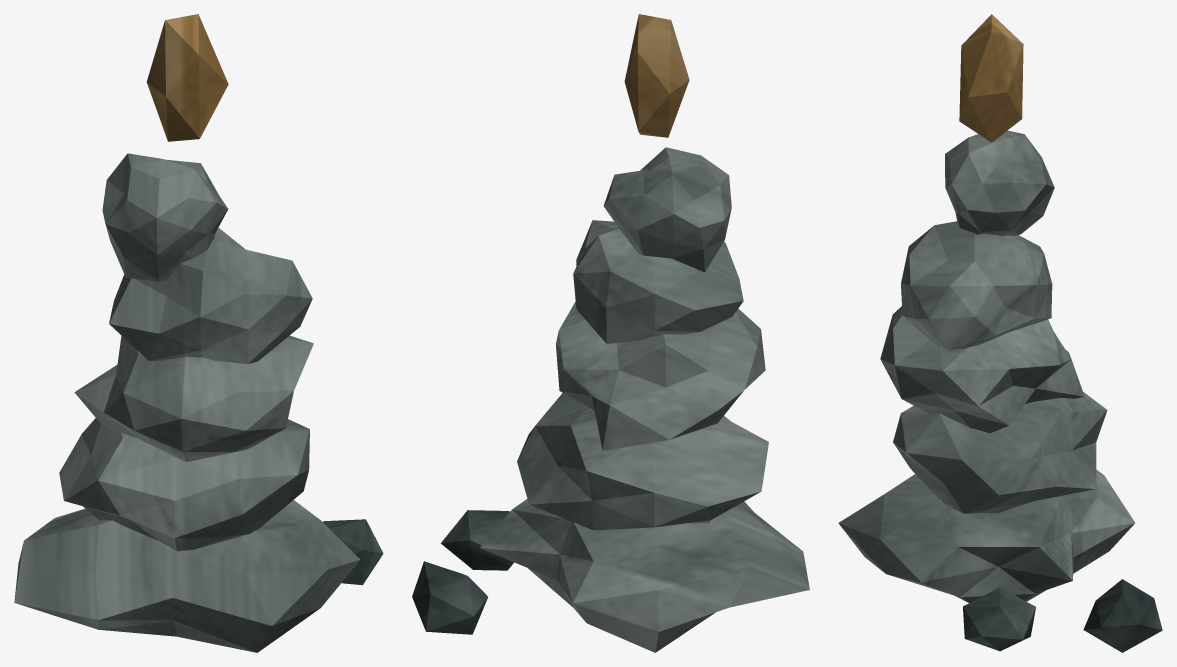
The model's file is 0609_cairn_09.glb.
3 views of the same model, side by side, from view 1: azimuth 30°, elevation 25°; view 2: azimuth 150°, elevation 25°; view 3: azimuth 270°, elevation 25° (orthographic). The views are drawn at different scales.
Visible parts, largest first — view 1: stone, brass, stone_dark; view 2: stone, stone_dark, brass; view 3: stone, stone_dark, brass.
Boxes of the visible parts, x1,y1,x2,y2 form: stone: (14,153,360,652); brass: (146,14,228,141); stone_dark: (323,519,383,585); stone: (480,147,809,652); stone_dark: (412,510,513,634); brass: (624,14,689,137); stone: (838,130,1134,602); stone_dark: (963,579,1162,652); brass: (959,14,1023,142).
Size of the model in its own units: 1.33 by 2.13 by 1.12.
3 materials, 3 textured.
